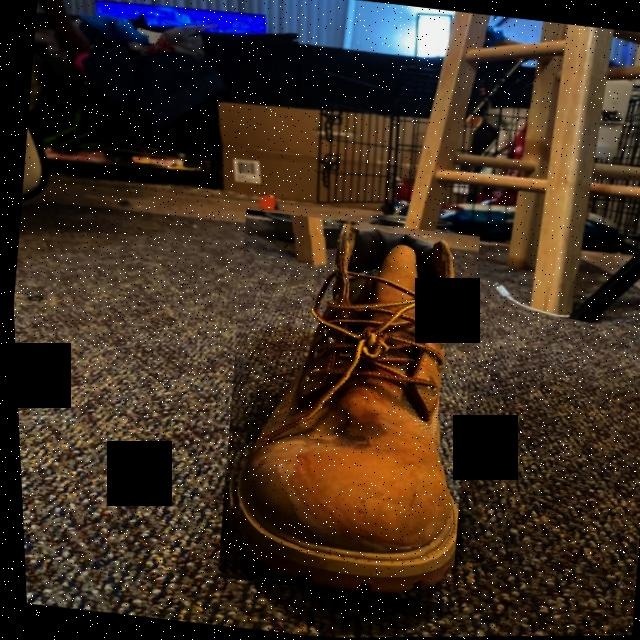shoe: (199, 208, 490, 606)
